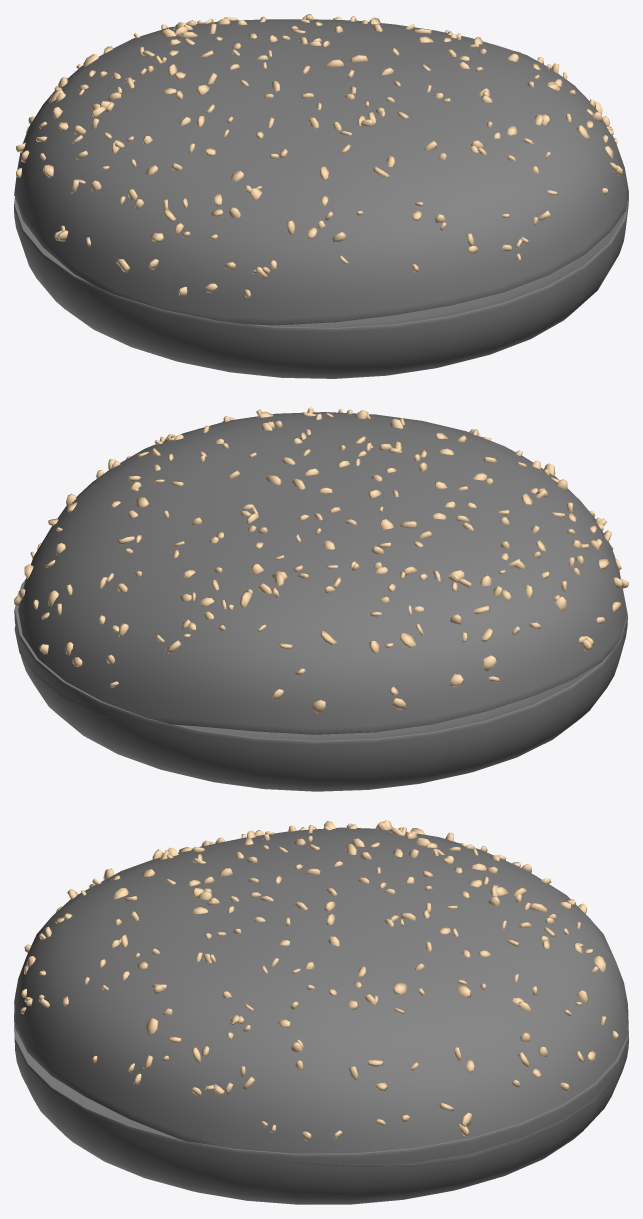
File: pan_junto.fbx
3 renders of one model, top to bottom at view 1: azimuth 30°, elevation 25°; view 2: azimuth 150°, elevation 25°; view 3: azimuth 270°, elevation 25°, orthographic.
Parts seen in each view (by area): view 1: cgaxis_models_29_20_01, cgaxis_models_29_20_09; view 2: cgaxis_models_29_20_01, cgaxis_models_29_20_09; view 3: cgaxis_models_29_20_01, cgaxis_models_29_20_09.
Boxes of the visible parts, left/top/right/bottom form: cgaxis_models_29_20_01: left=14, top=19, right=628, bottom=378; cgaxis_models_29_20_09: left=16, top=14, right=622, bottom=297; cgaxis_models_29_20_01: left=14, top=412, right=627, bottom=791; cgaxis_models_29_20_09: left=14, top=407, right=628, bottom=713; cgaxis_models_29_20_01: left=14, top=827, right=628, bottom=1204; cgaxis_models_29_20_09: left=20, top=820, right=618, bottom=1141.
Size of the model in its own units: 3.98 by 1.42 by 3.94.
